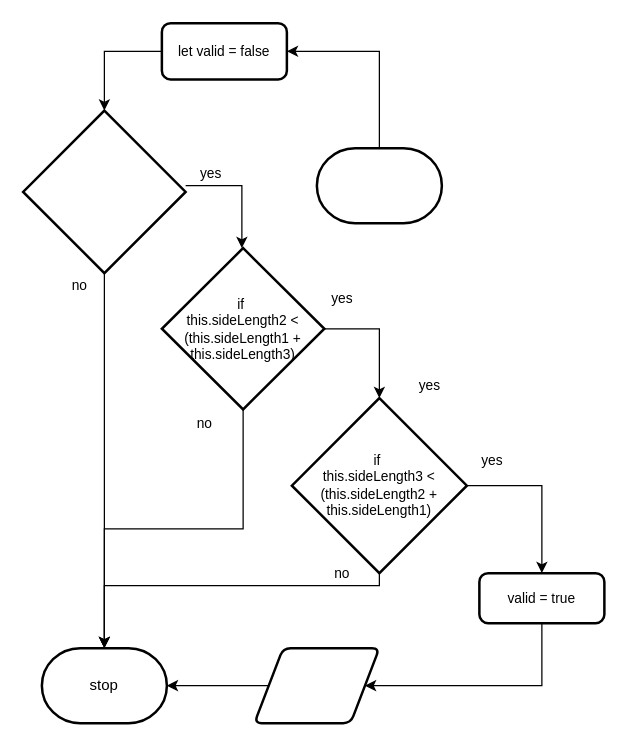
Some shapes in this 626 by 745 pixel diagram are drawn without their labels. The centre of each missing label's shape, as x and y in pixels:
if this.sideLength1 < (this.sideLength2 + this.sideLength3): (x=103, y=191)
return valid: (x=316, y=685)
start: (x=378, y=185)
